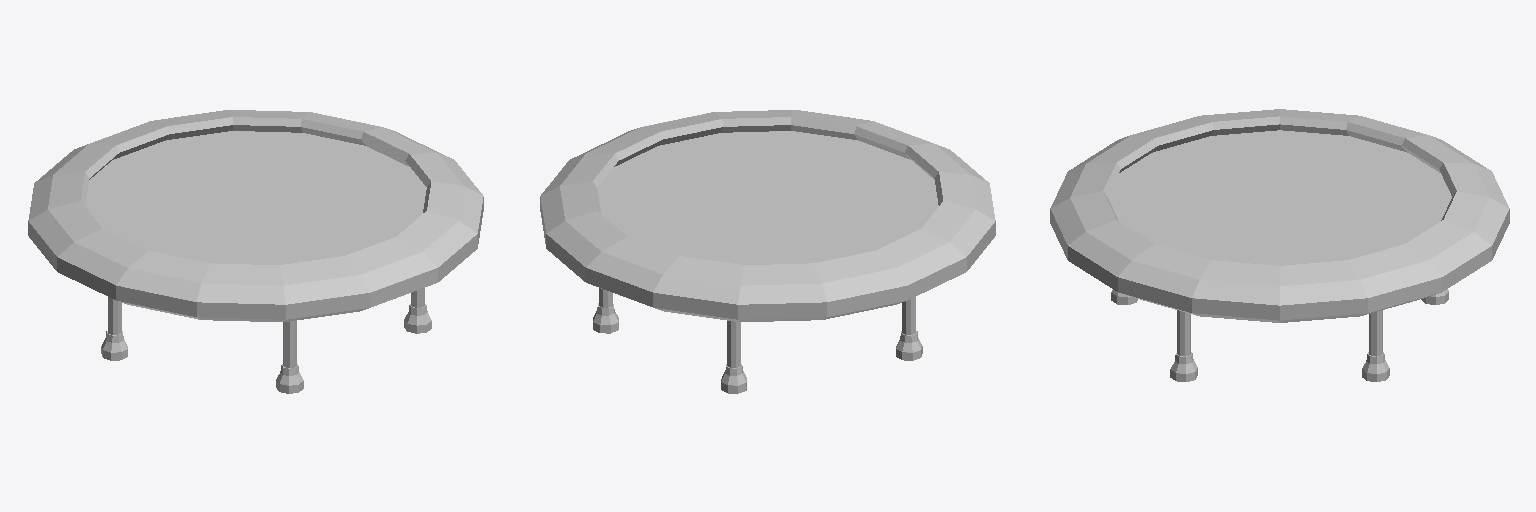
Rendered from tramp.obj.
3 renders of one model, left to right at view 1: azimuth 30°, elevation 25°; view 2: azimuth 150°, elevation 25°; view 3: azimuth 270°, elevation 25°, orthographic.
Parts seen in each view (by area): view 1: pCylinder7; view 2: pCylinder7; view 3: pCylinder7.
Part boxes in pixels (bbox=[...]): pCylinder7: bbox=[28, 110, 483, 393]; pCylinder7: bbox=[540, 110, 995, 393]; pCylinder7: bbox=[1050, 109, 1509, 381].
Bounding box in the file's own units: 171 × 53.35 × 171.